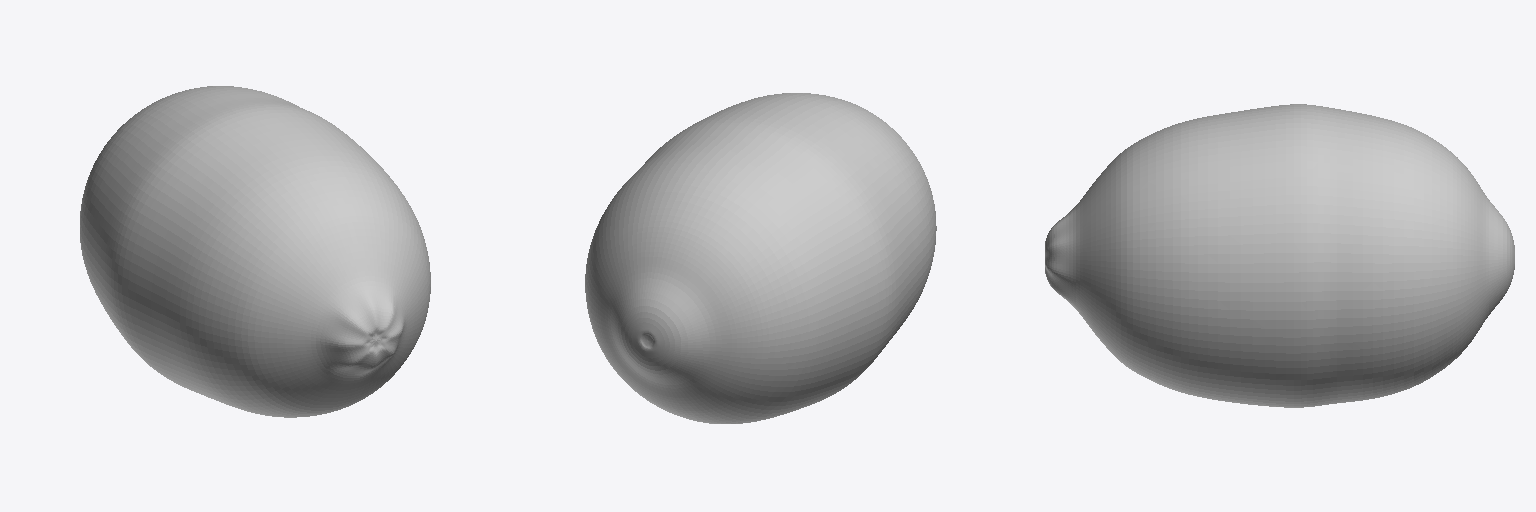
File: seed.obj
3 renders of one model, left to right at view 1: azimuth 30°, elevation 25°; view 2: azimuth 150°, elevation 25°; view 3: azimuth 270°, elevation 25°, orthographic.
Parts seen in each view (by area): view 1: Lemon; view 2: Lemon; view 3: Lemon.
Boxes of the visible parts, x1,y1,x2,y2 form: Lemon: [80, 86, 430, 417]; Lemon: [585, 93, 936, 423]; Lemon: [1045, 104, 1514, 407].
Size of the model in its own units: 7.45 by 7.45 by 11.52.